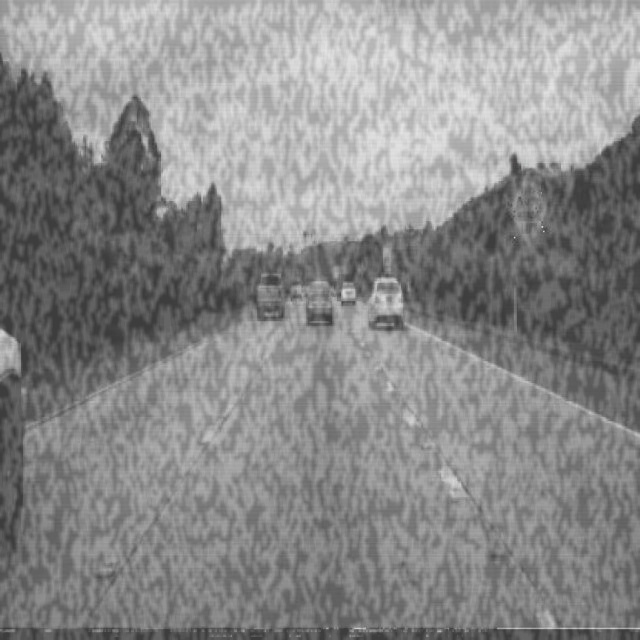thruTrafficMergeLeft: (508, 170, 550, 252)
